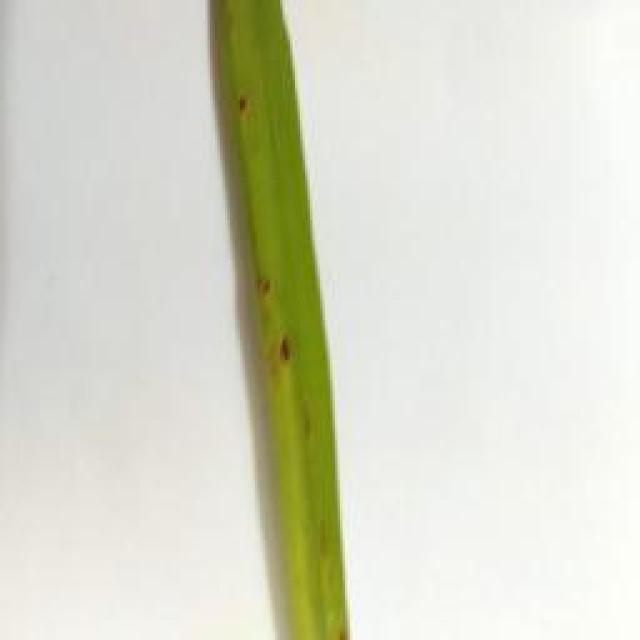Brown_Spot: (271, 308, 308, 387), (244, 253, 291, 313), (224, 80, 267, 134)
